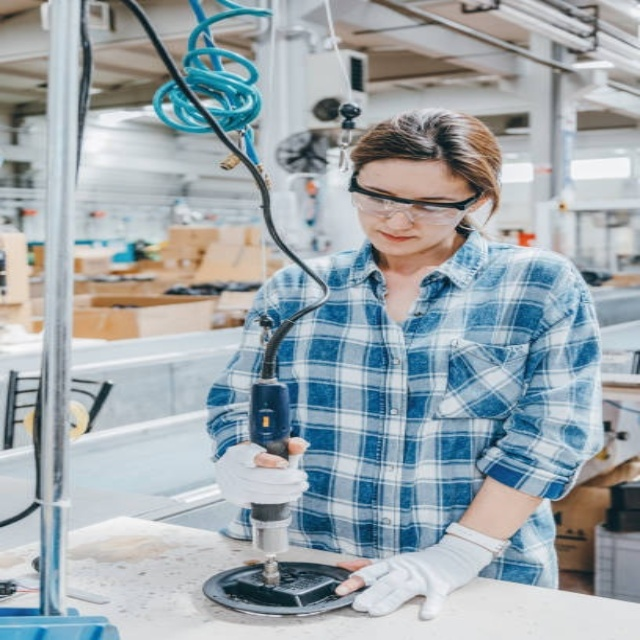Gafas: (349, 177, 479, 226)
Guantes: (344, 523, 504, 619), (214, 441, 310, 506)
Sin_mascara: (372, 227, 430, 255)
